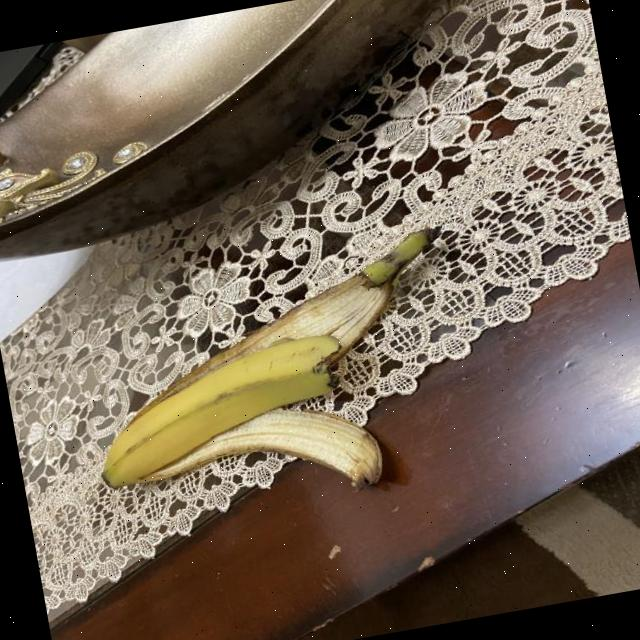banana-peel: (67, 226, 471, 533), (82, 328, 358, 491), (130, 389, 388, 528)
